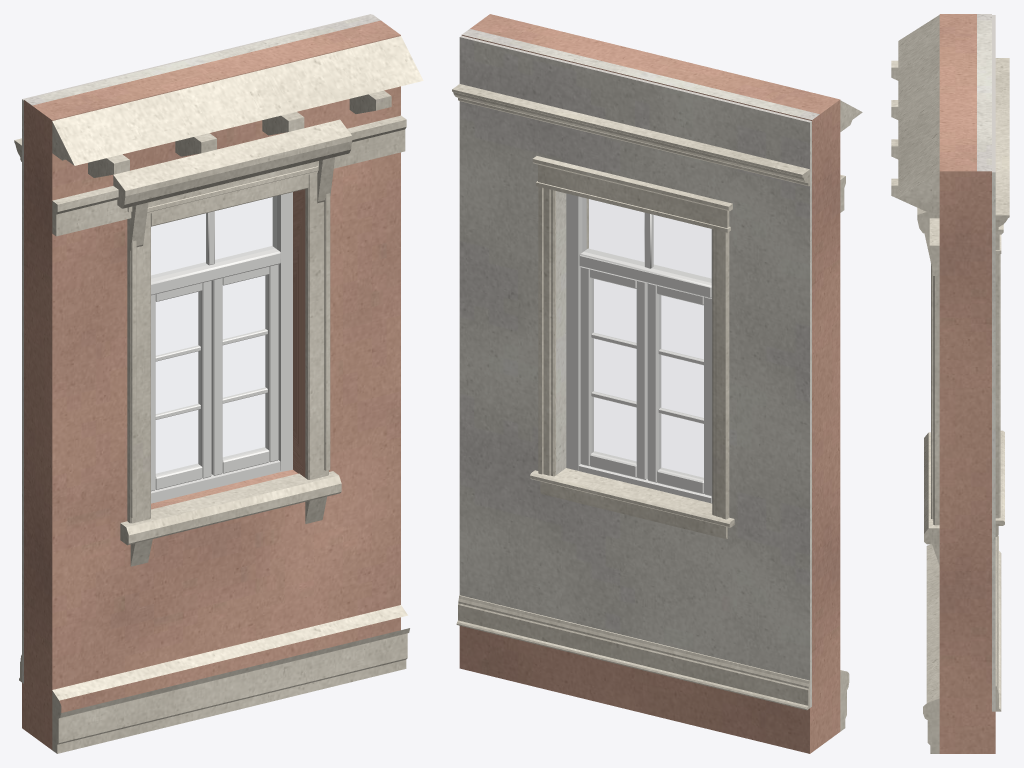
Rendered from u_wall_window_plain.glb.
3 renders of one model, left to right at view 1: azimuth 30°, elevation 25°; view 2: azimuth 150°, elevation 25°; view 3: azimuth 270°, elevation 25°, orthographic. The views are drawn at different scales.
Parts seen in each view (by area): view 1: u_wall_window_plain_render, u_wall_window_plain_trim, u_wall_window_plain_frame, folha_glass, folha_2_glass, folha_2_sash, u_wall_window_plain_glass, folha_sash, u_wall_window_plain_plaster; view 2: u_wall_window_plain_plaster, u_wall_window_plain_render, molduras, u_wall_window_plain_frame, folha_glass, folha_2_glass, folha_sash, u_wall_window_plain_glass, folha_2_sash, u_wall_window_plain_trim; view 3: u_wall_window_plain_render, u_wall_window_plain_trim, molduras, u_wall_window_plain_plaster.
Part boxes in pixels (x1,y1,x2,y2): u_wall_window_plain_render: [22, 20, 400, 749]; u_wall_window_plain_trim: [52, 36, 423, 753]; u_wall_window_plain_frame: [151, 192, 292, 503]; folha_glass: [156, 292, 199, 474]; folha_2_glass: [223, 276, 266, 458]; folha_2_sash: [214, 264, 278, 475]; u_wall_window_plain_glass: [151, 197, 276, 277]; folha_sash: [151, 280, 214, 491]; u_wall_window_plain_plaster: [22, 14, 380, 683]; u_wall_window_plain_plaster: [459, 29, 819, 707]; u_wall_window_plain_render: [459, 14, 840, 753]; molduras: [452, 84, 809, 710]; u_wall_window_plain_frame: [566, 193, 712, 503]; folha_glass: [659, 295, 703, 478]; folha_2_glass: [592, 279, 635, 462]; folha_sash: [644, 282, 711, 496]; u_wall_window_plain_glass: [583, 198, 710, 281]; folha_2_sash: [580, 267, 644, 479]; u_wall_window_plain_trim: [586, 100, 862, 731]; u_wall_window_plain_render: [939, 14, 995, 753]; u_wall_window_plain_trim: [891, 15, 939, 753]; molduras: [995, 58, 1009, 711]; u_wall_window_plain_plaster: [977, 14, 995, 711].
Bounding box in the file's own units: 2 × 3.45 × 0.635.
7 materials, 4 textured.
